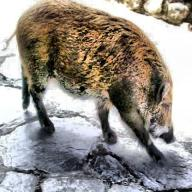boar: (9, 0, 185, 186)
